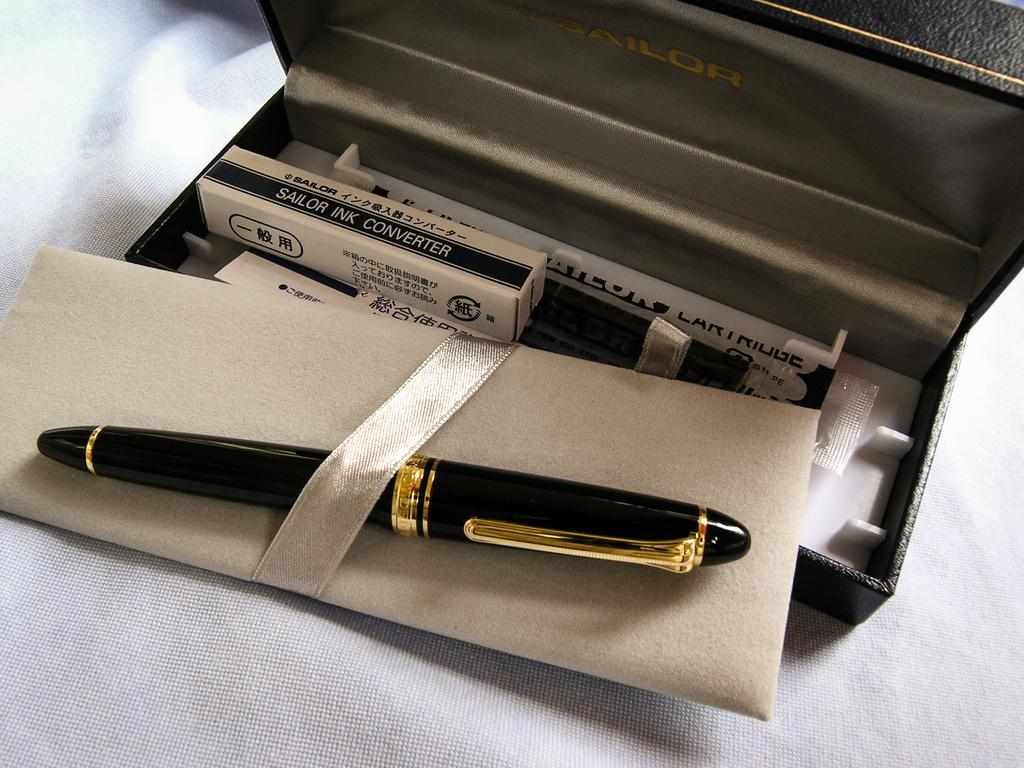pen: (36, 421, 750, 571)
